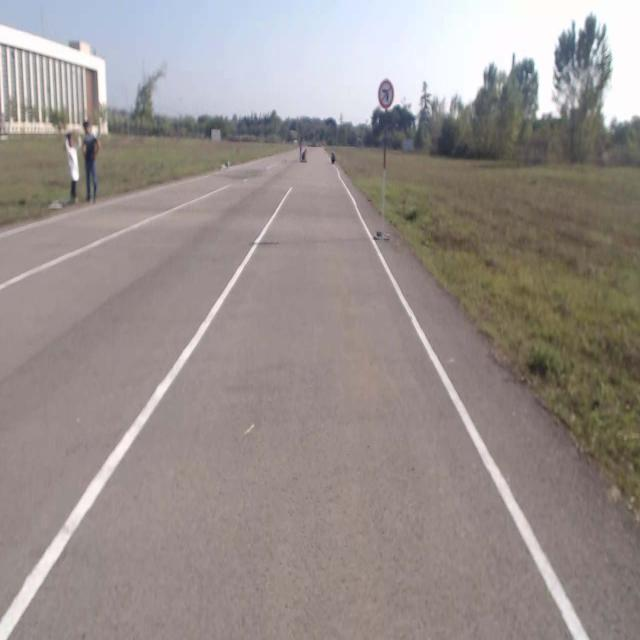soladonulmez: (379, 81, 393, 105)
